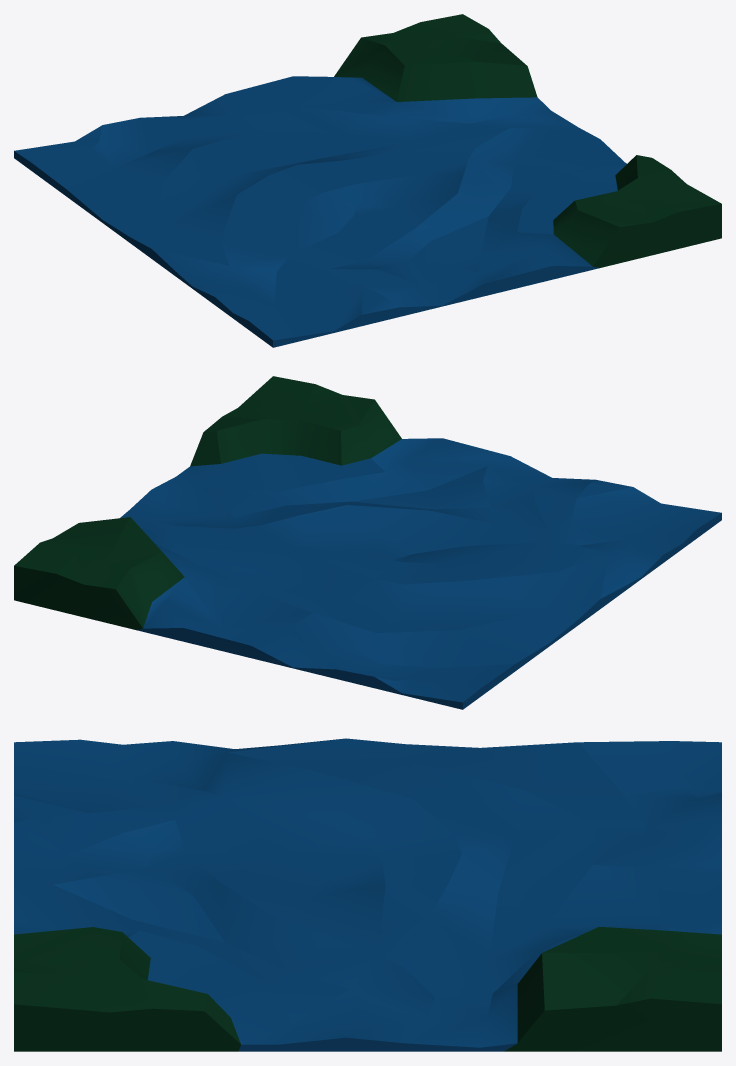
The model's file is Water_River_Entrance_R.fbx.
3 views of the same model, one above another, from view 1: azimuth 30°, elevation 25°; view 2: azimuth 150°, elevation 25°; view 3: azimuth 270°, elevation 25° (orthographic). The views are drawn at different scales.
Parts seen in each view (by area): view 1: Water_River_Entrance_R; view 2: Water_River_Entrance_R; view 3: Water_River_Entrance_R.
Boxes of the visible parts, box(x1,y1,x2,y2) form: Water_River_Entrance_R: box(14, 14, 721, 347); Water_River_Entrance_R: box(14, 376, 721, 709); Water_River_Entrance_R: box(14, 738, 721, 1051).
Bounding box in the file's own units: 147 × 15.12 × 147.
